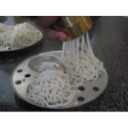idiyappam: (28, 71, 69, 105), (62, 40, 100, 76), (1, 23, 32, 44)
